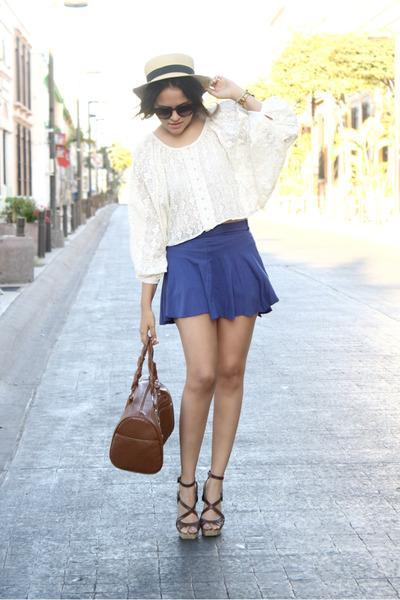bag: (109, 348, 173, 473)
hat: (144, 53, 217, 104)
shirt: (115, 109, 291, 273)
skirt: (160, 218, 278, 323)
